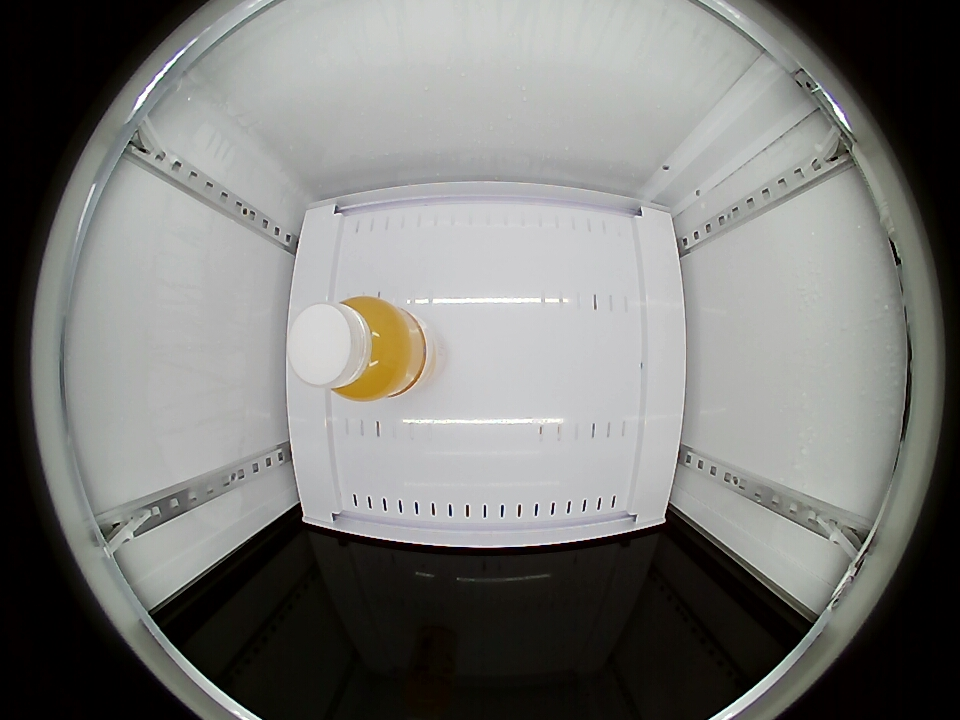weic: (290, 295, 428, 401)
